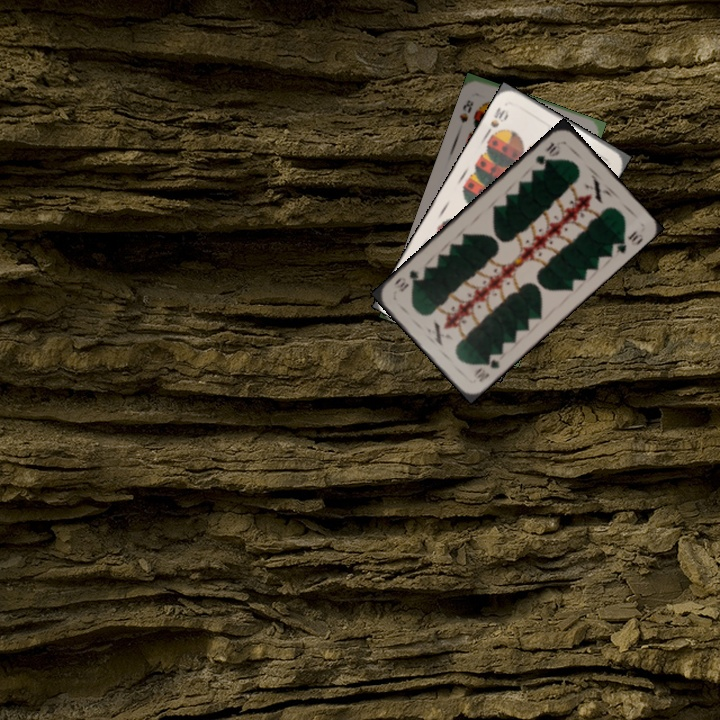G10: (469, 349, 502, 385), (531, 138, 562, 167)
S10: (482, 103, 508, 137)
S8: (455, 96, 476, 125)
